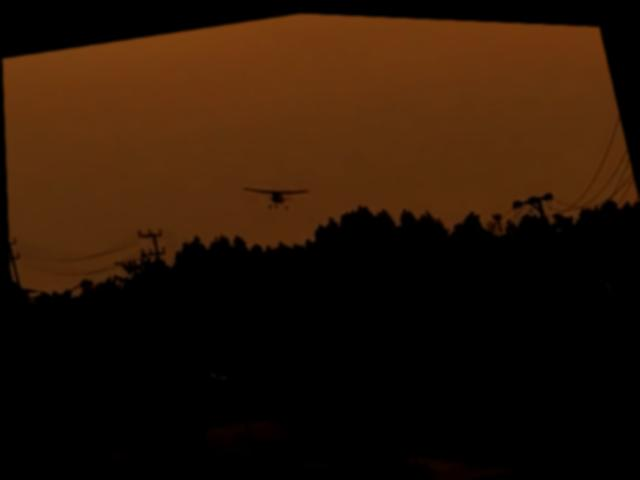plane: (241, 175, 310, 214)
